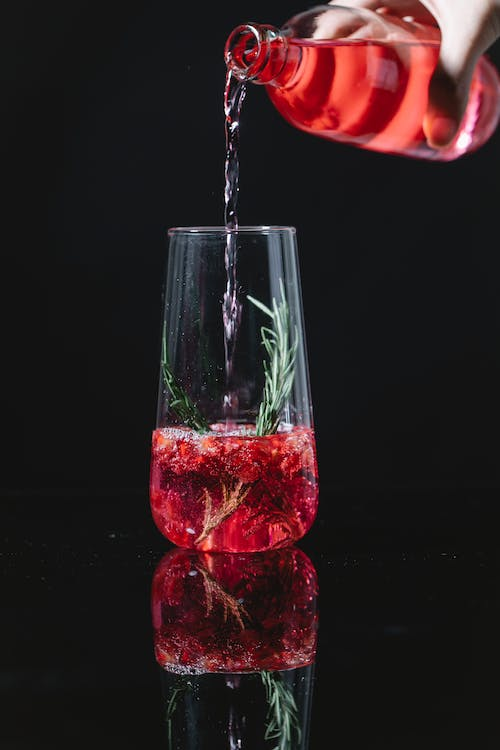alcohol: (148, 224, 321, 554), (222, 4, 500, 162)
